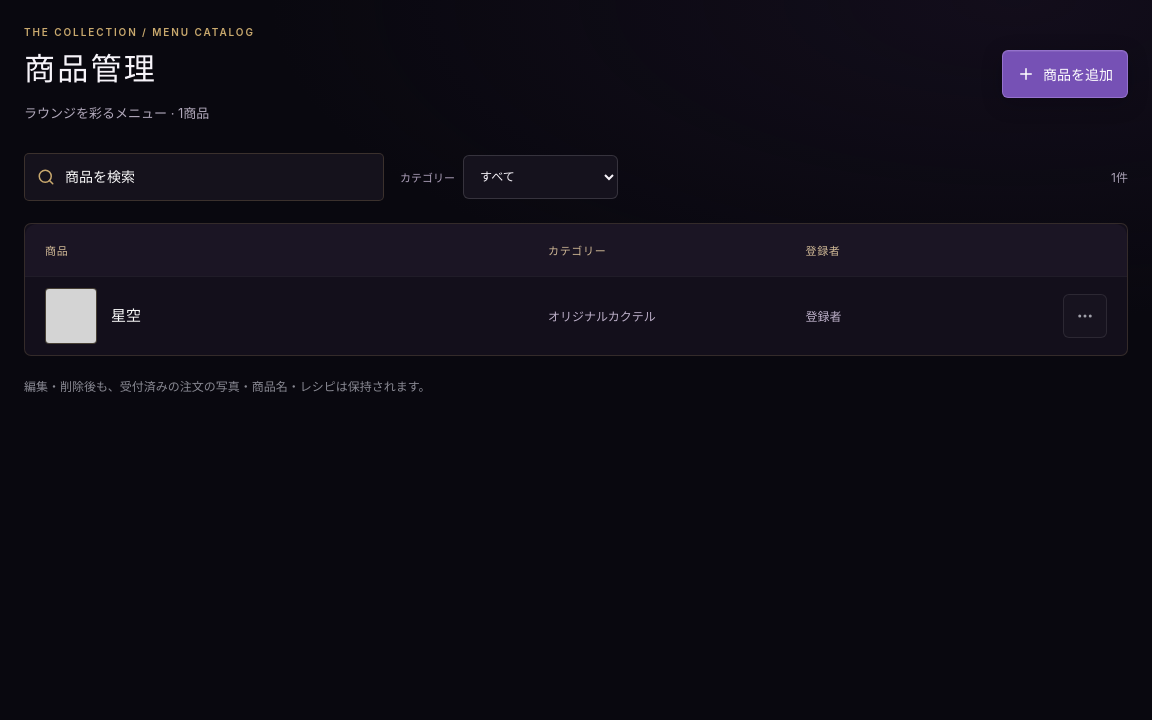
商品編集 › 必須入力の不足を拒否し、キャンセルでは保存しない
Click the button named "星空の操作" at (1085, 316), box [1063,294,1107,338]
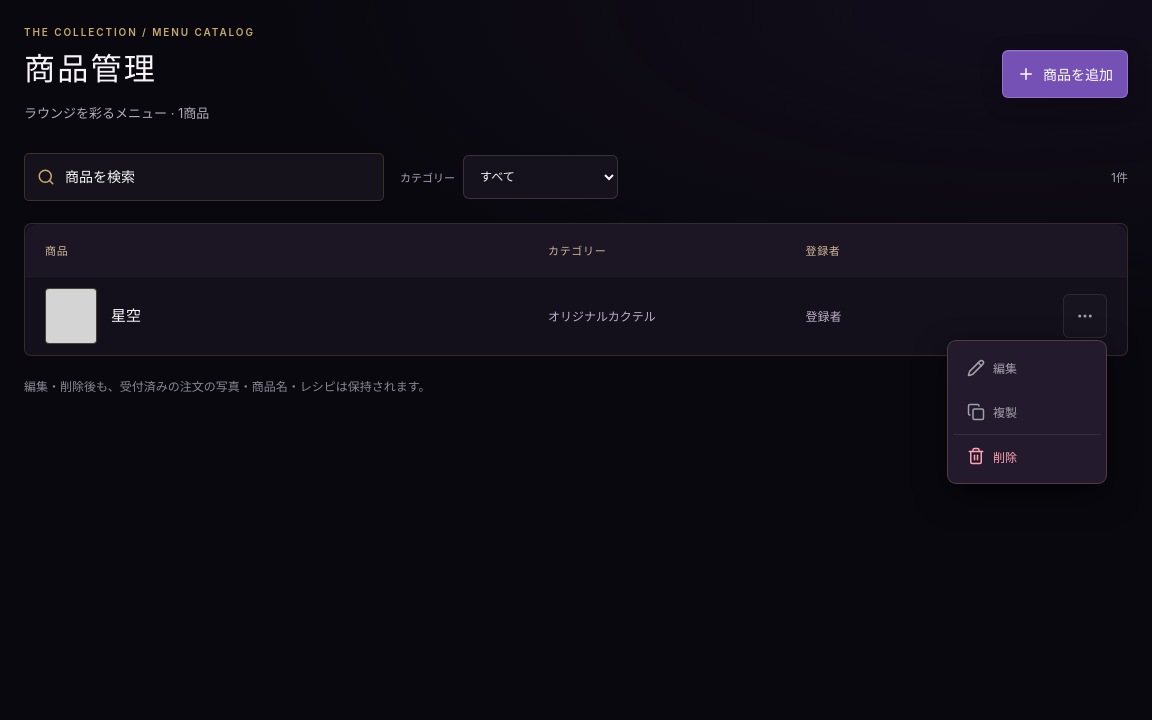
Click the button with aria-label "星空を編集" at (1027, 368), box [953,346,1101,390]
(page scrolled)
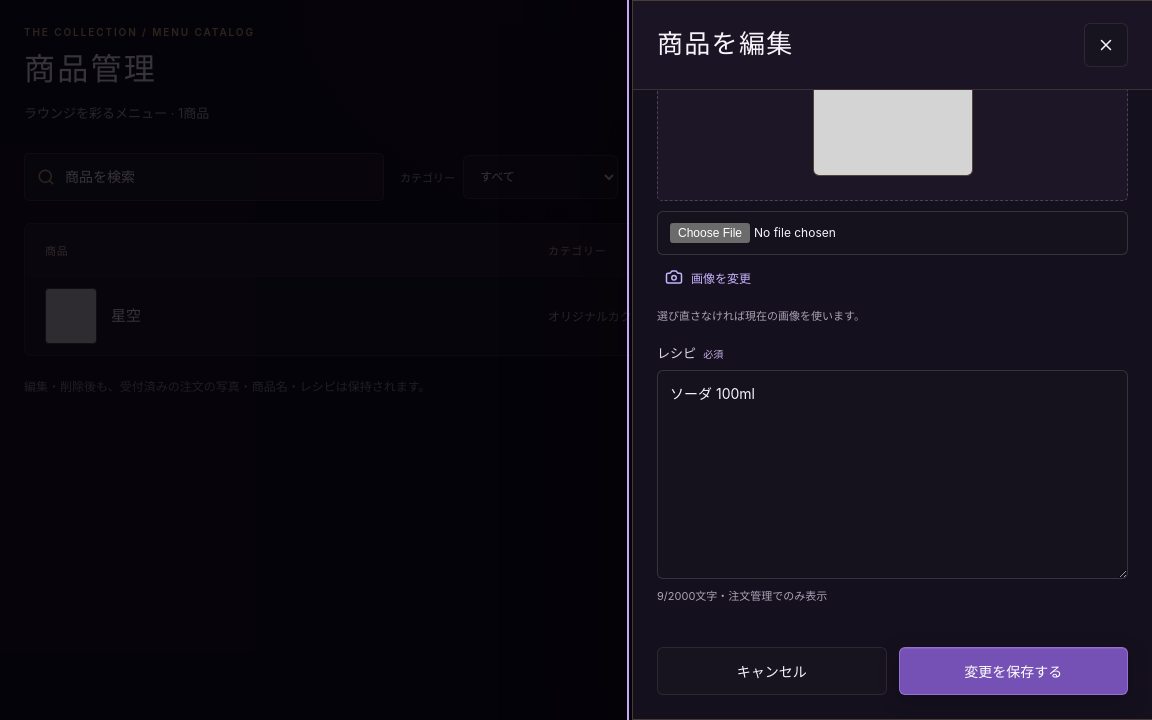
Clear the text box labelled "レシピ 必須 9/2000文字・注文管理でのみ表示" at (892, 474), box [657,370,1128,579]
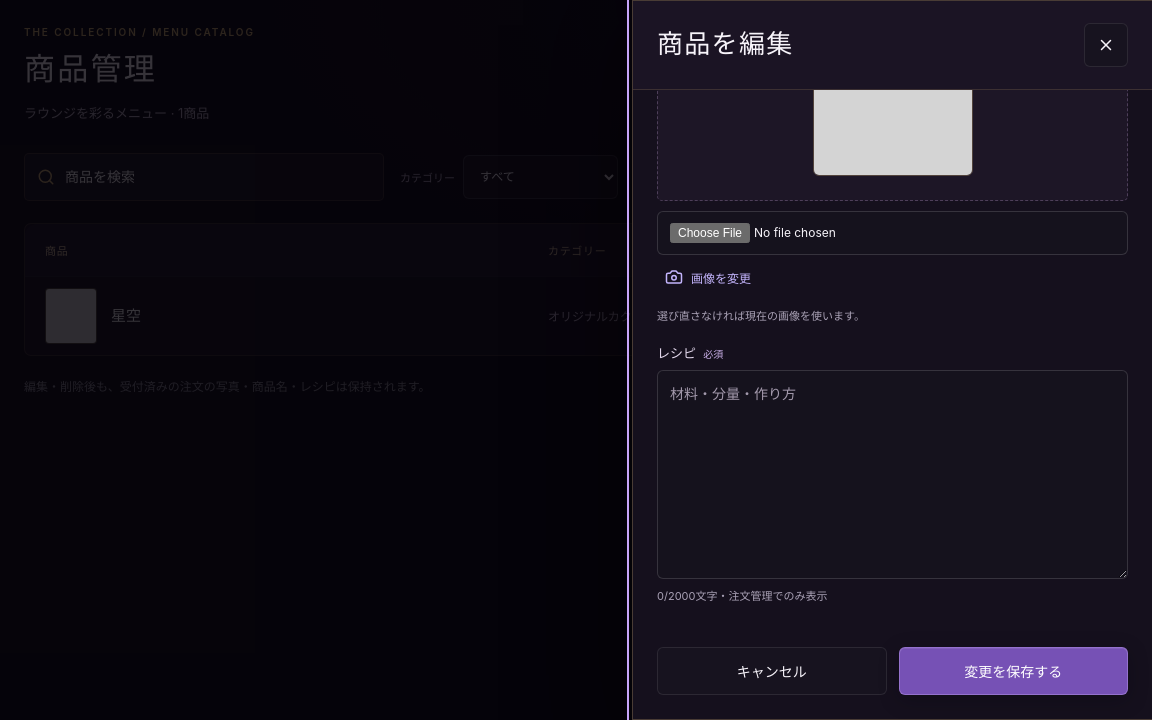
Click the button "変更を保存する" at (1013, 671), box [898,647,1128,695]
(page scrolled)
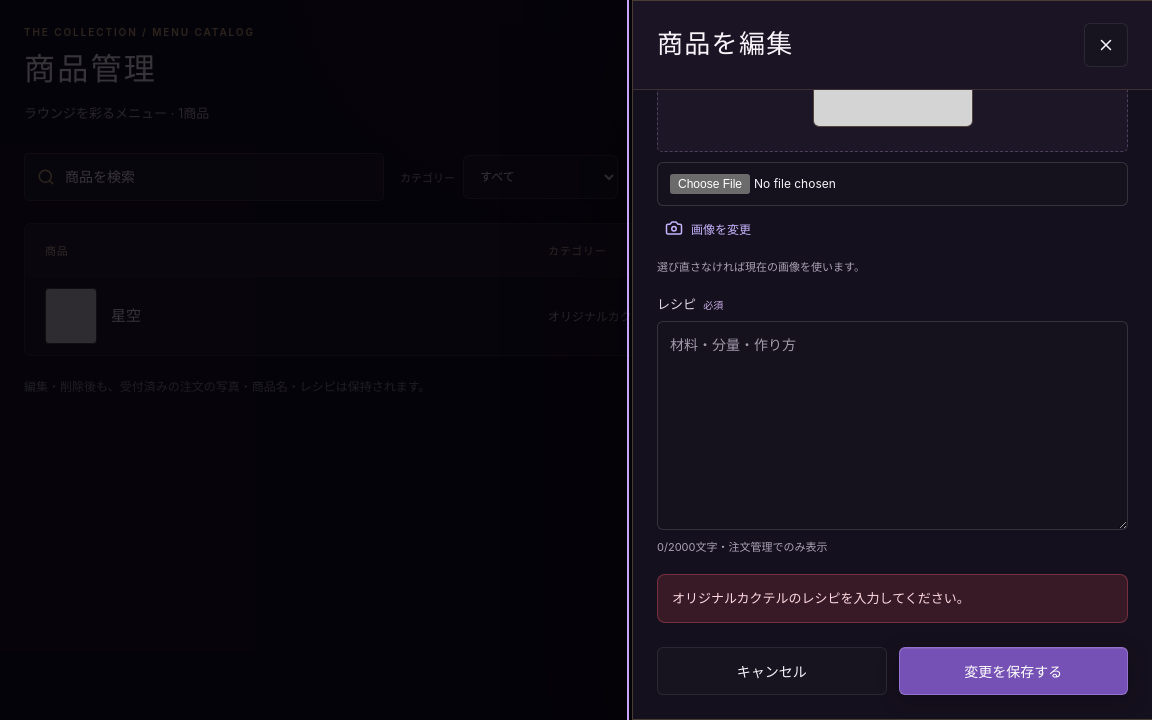
Expected: the message shows "レシピを入力", [672,590,970,606]
Click the button "キャンセル" at (772, 670), box [657,646,886,694]
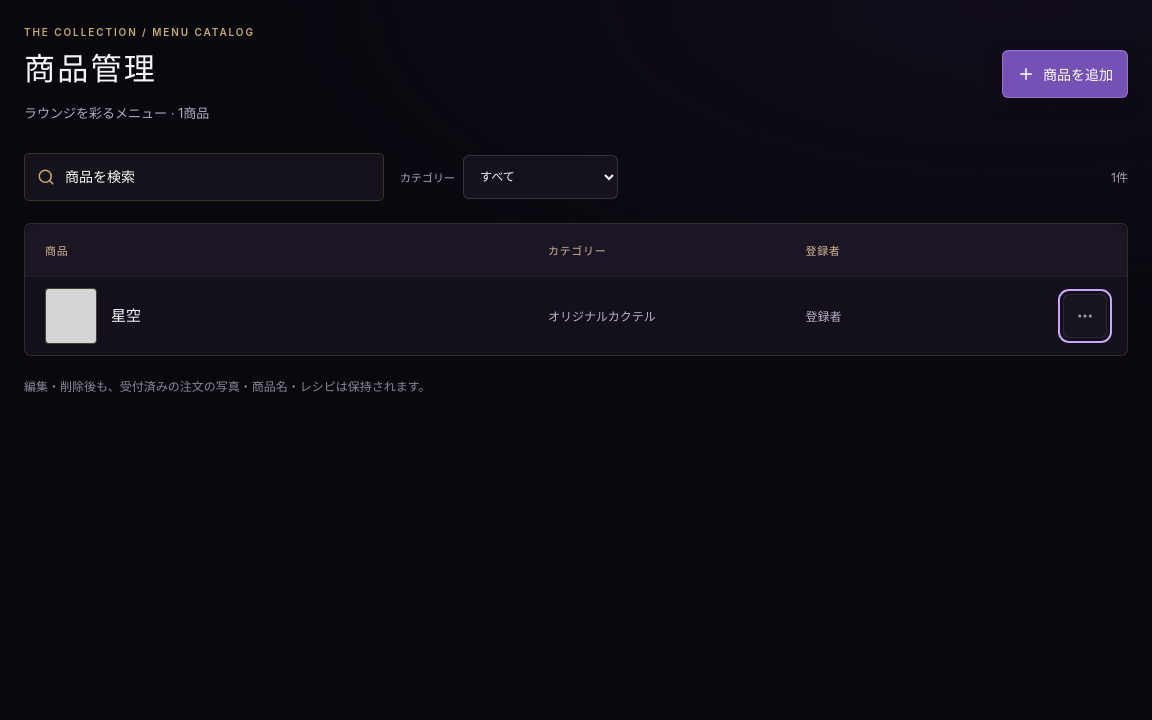
Expected: the dialog is gone
